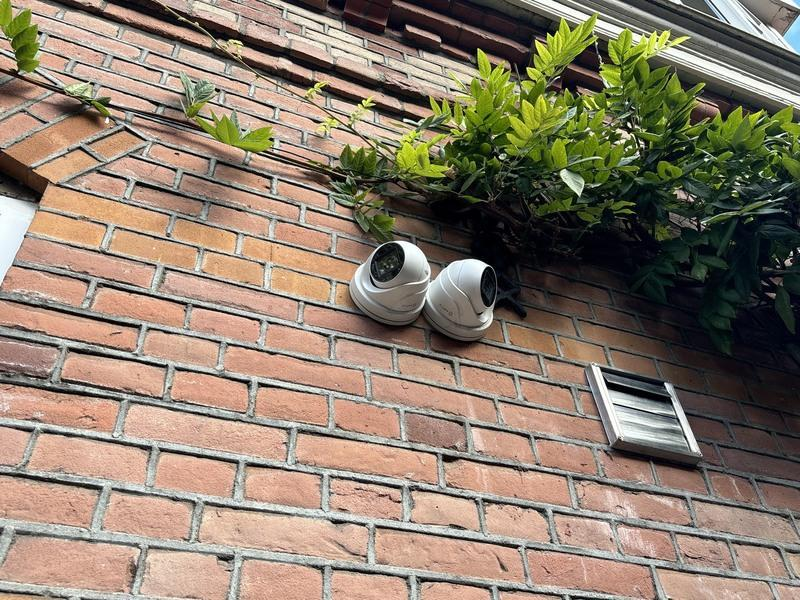turret: (345, 234, 427, 323), (435, 245, 501, 339)
